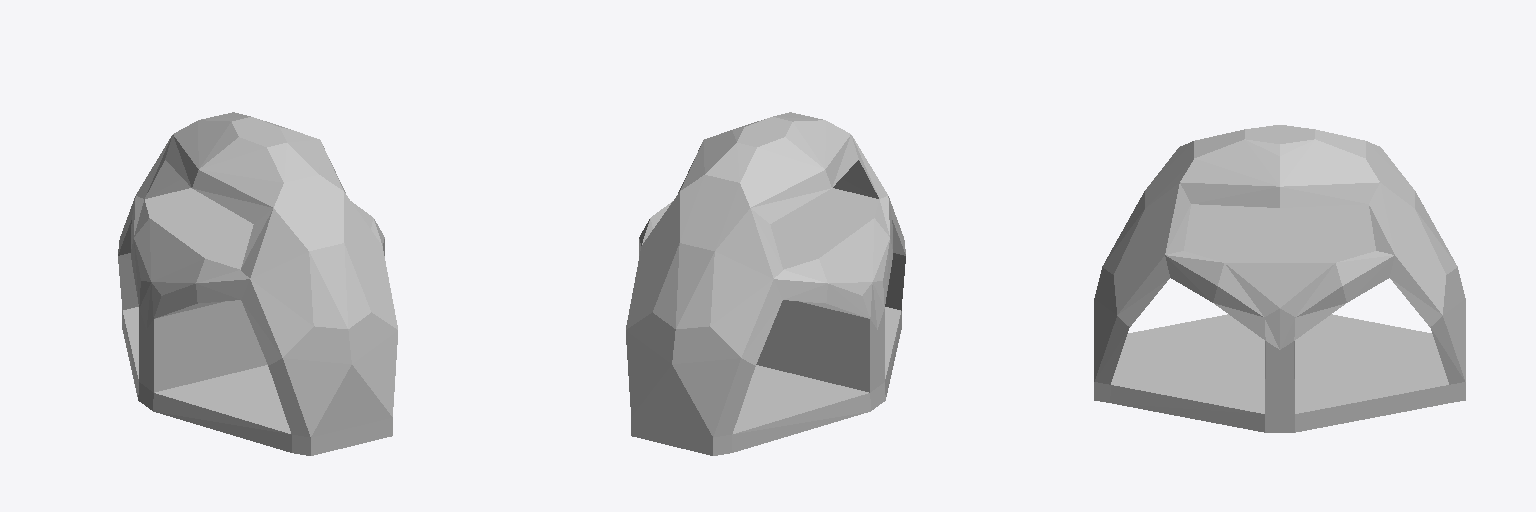
3 renders of one model, left to right at view 1: azimuth 30°, elevation 25°; view 2: azimuth 150°, elevation 25°; view 3: azimuth 270°, elevation 25°, orthographic.
Parts seen in each view (by area): view 1: dodecahedron1_cut6; view 2: dodecahedron1_cut6; view 3: dodecahedron1_cut6.
Part boxes in pixels (x1,y1,x2,y2): dodecahedron1_cut6: (118,112,397,455); dodecahedron1_cut6: (626,112,905,455); dodecahedron1_cut6: (1094,125,1465,432).
Bounding box in the file's own units: 226 × 241 × 329.